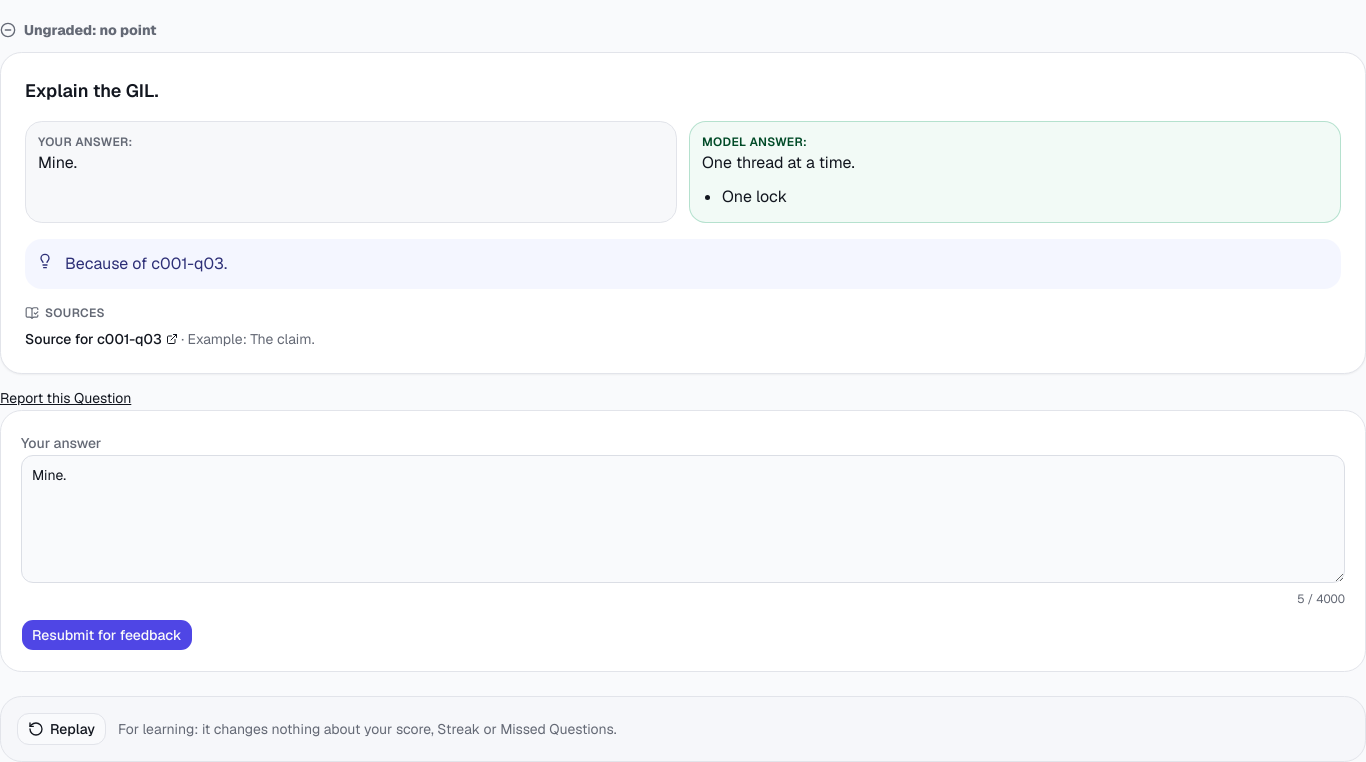
Test: offers to send a resubmission again when it can't be graded either
(page scrolled)
Click the button "Resubmit for feedback" at (107, 635), box [21,619,193,651]
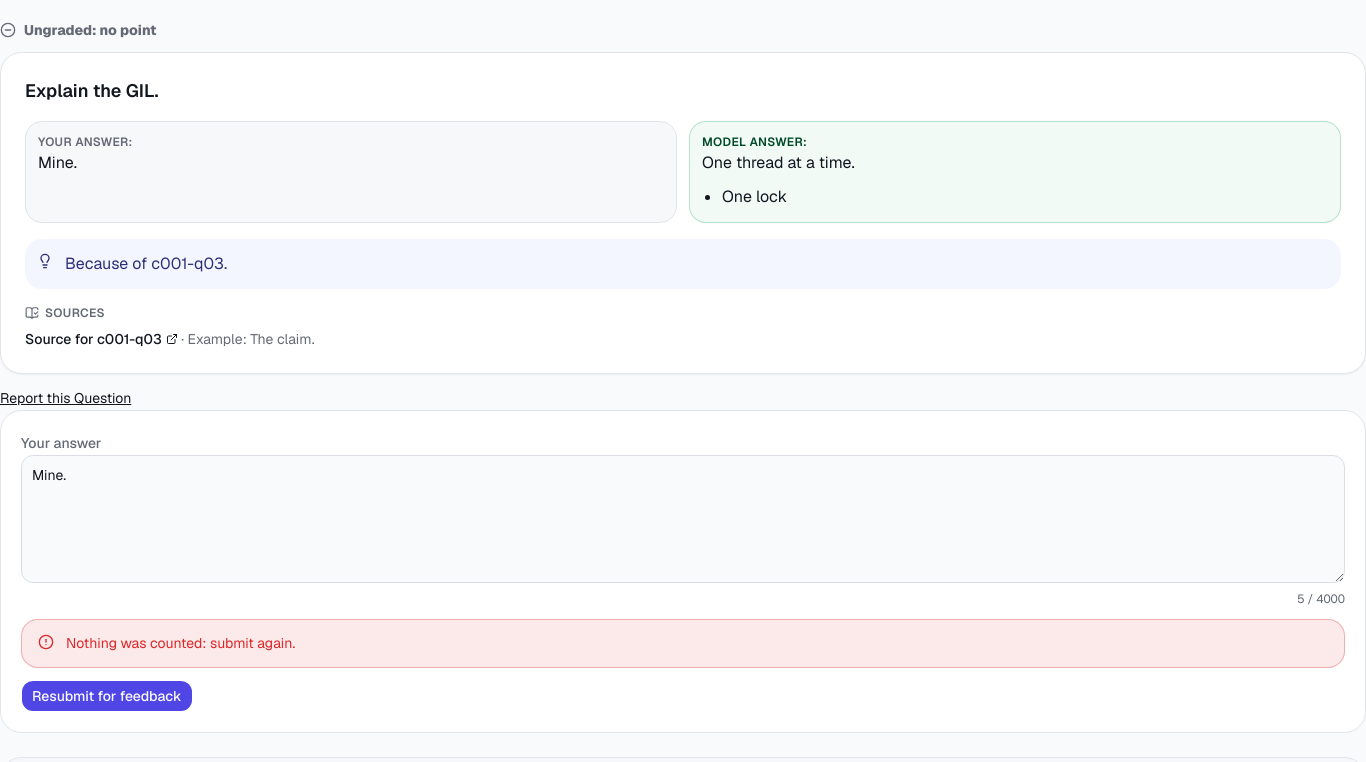
Expected: the text "Nothing was counted: submit again." is shown, [66,634,295,652]
